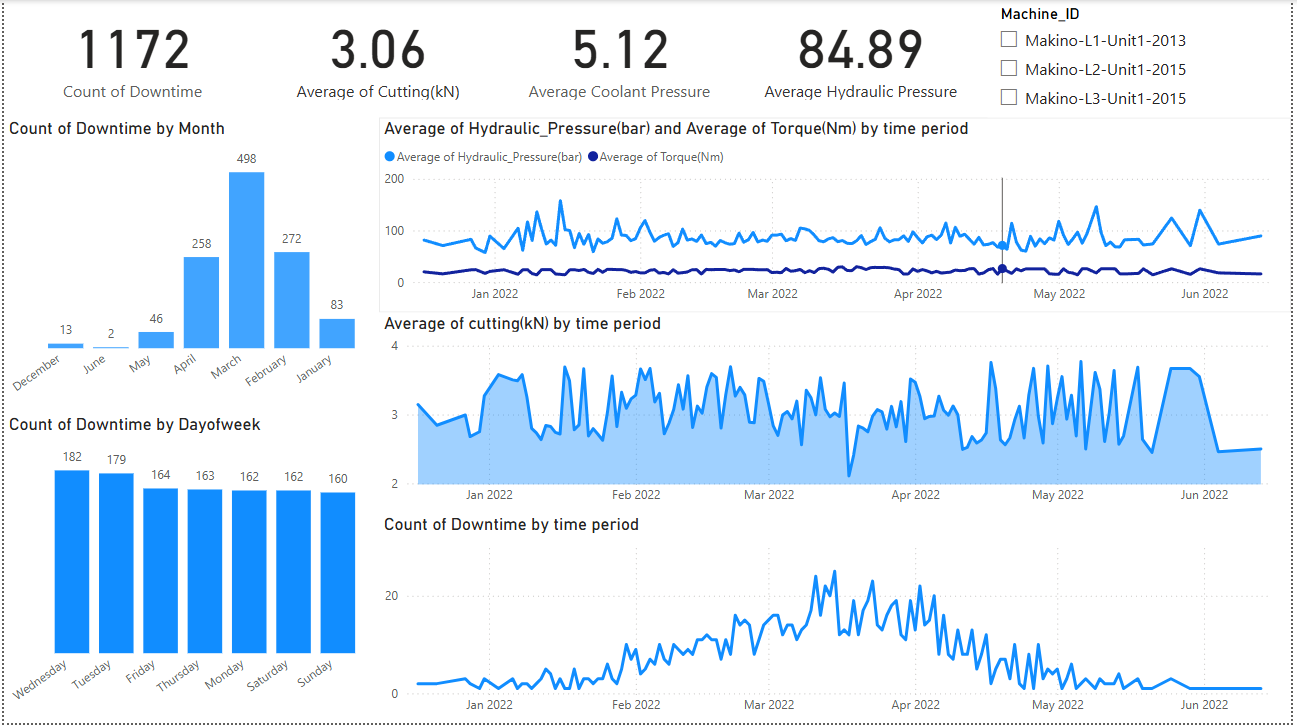

The dashboard page shown, as its layout file describes it:
{"tool":"powerbi","page":{"name":"Optimization of Machine Downtime Dashboard","canvas":[1280,720],"ordinal":0},"visuals":[{"type":"card","fields":{"Values":["CountNonNull(Clear_MD_1.Downtime)"]},"box":[0,0,256.3,104.5],"z":0},{"type":"card","fields":{"Values":["Avg(Clear_MD_1.Coolant_Pressure(bar))"]},"box":[488.9,0,247.5,104.5],"z":1000},{"type":"card","fields":{"Values":["Avg(Clear_MD_1.Cutting(kN))"]},"box":[256.3,0,232.6,104.5],"z":2000},{"type":"card","fields":{"Values":["Avg(Clear_MD_1.Hydraulic_Pressure(bar))"]},"box":[736.4,0,232.6,104.5],"z":3000},{"type":"columnChart","fields":{"Category":["Clear_MD_1.Dayofweek"],"Y":["CountNonNull(Clear_MD_1.Downtime)"]},"box":[0,411.8,373.2,308.5],"z":4000},{"type":"clusteredColumnChart","fields":{"Category":["Clear_MD_1.Date.Variation.Date Hierarchy.Month","Clear_MD_1.Date.Variation.Date Hierarchy.Day"],"Y":["CountNonNull(Clear_MD_1.Downtime)"]},"box":[0,116.9,373.2,294.8],"z":5000},{"type":"lineChart","title":"Count of Downtime by time period","fields":{"Y":["CountNonNull(Clear_MD_1.Downtime)"],"Category":["Clear_MD_1.Date.Variation.Date Hierarchy.Year","Clear_MD_1.Date.Variation.Date Hierarchy.Month","Clear_MD_1.Date.Variation.Date Hierarchy.Day"]},"box":[373.2,511.3,906.8,209],"z":6000},{"type":"lineChart","title":"Average of Hydraulic_Pressure(bar) and Average of Torque(Nm) by time period","fields":{"Y":["Avg(Clear_MD_1.Hydraulic_Pressure(bar))","Avg(Clear_MD_1.Torque(Nm))"],"Category":["Clear_MD_1.Date.Variation.Date Hierarchy.Year","Clear_MD_1.Date.Variation.Date Hierarchy.Month","Clear_MD_1.Date.Variation.Date Hierarchy.Day"]},"box":[373.2,116.9,906.8,194.1],"z":7000},{"type":"areaChart","title":"Average of cutting(kN) by time period","fields":{"Y":["Avg(Clear_MD_1.Cutting(kN))"],"Category":["Clear_MD_1.Date.Variation.Date Hierarchy.Year","Clear_MD_1.Date.Variation.Date Hierarchy.Month","Clear_MD_1.Date.Variation.Date Hierarchy.Day"]},"box":[373.2,311,906.8,200.3],"z":8000},{"type":"slicer","fields":{"Values":["Clear_MD_1.Machine_ID"]},"box":[979,0,301,116.9],"z":9000}]}

Visuals, with their boxes in screenshot pixels (x1, y1, x2, y2), scaled from the page's 1280x720 canvas onto the 1297x726 screenshot:
card - CountNonNull(Clear_MD_1.Downtime): select_region(0, 0, 260, 105)
card - Avg(Clear_MD_1.Coolant_Pressure(bar)): select_region(495, 0, 746, 105)
card - Avg(Clear_MD_1.Cutting(kN)): select_region(260, 0, 495, 105)
card - Avg(Clear_MD_1.Hydraulic_Pressure(bar)): select_region(746, 0, 982, 105)
columnChart - Clear_MD_1.Dayofweek x CountNonNull(Clear_MD_1.Downtime): select_region(0, 415, 378, 725)
clusteredColumnChart - Clear_MD_1.Date.Variation.Date Hierarchy.Month x Clear_MD_1.Date.Variation.Date Hierarchy.Day: select_region(0, 118, 378, 415)
"Count of Downtime by time period" lineChart: select_region(378, 516, 1296, 725)
"Average of Hydraulic_Pressure(bar) and Average of Torque(Nm) by time period" lineChart: select_region(378, 118, 1296, 314)
"Average of cutting(kN) by time period" areaChart: select_region(378, 314, 1296, 516)
slicer - Clear_MD_1.Machine_ID: select_region(992, 0, 1296, 118)
